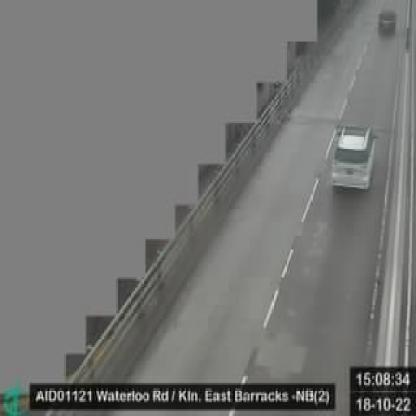Car: (331, 122, 379, 194), (377, 7, 398, 38)
